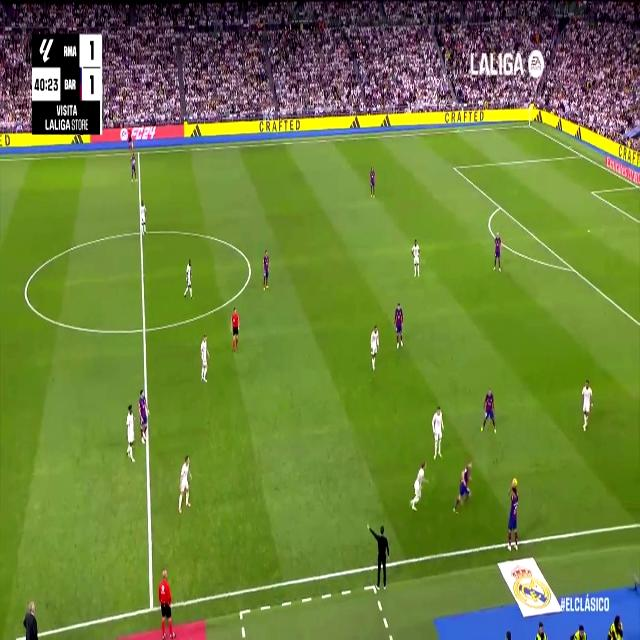bigarea_top_inner: (451, 161, 457, 173)
bigarea_top_outter: (578, 148, 584, 160)
bottom_arc_area_intersection: (568, 261, 576, 276)
halfcircle_bottom: (138, 316, 150, 342)
halfcircle_top: (136, 224, 145, 242)
midline_bottom_intersection: (145, 593, 158, 619)
midline_top_intersection: (136, 146, 142, 158)
smallarea_top_inner: (589, 185, 595, 197)
top_arc_area_intersection: (497, 199, 503, 213)
